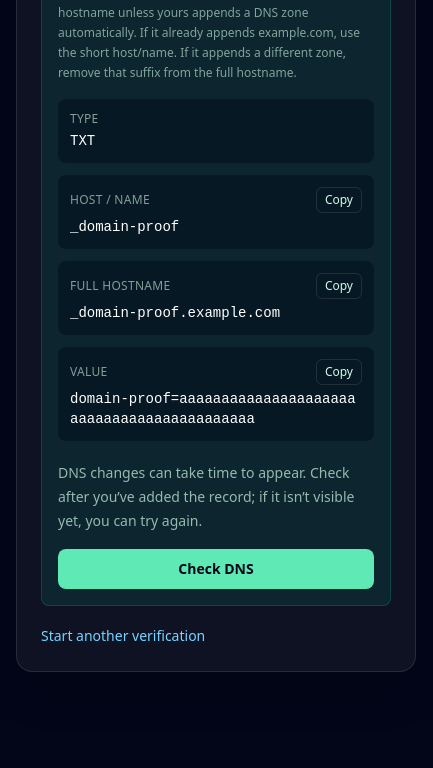
App › explains the lookup_error result and allows retry
The width and height of the screenshot is (433, 768).
(page scrolled)
Click the button "Check DNS": [216, 569] box x1=58 y1=549 x2=374 y2=589
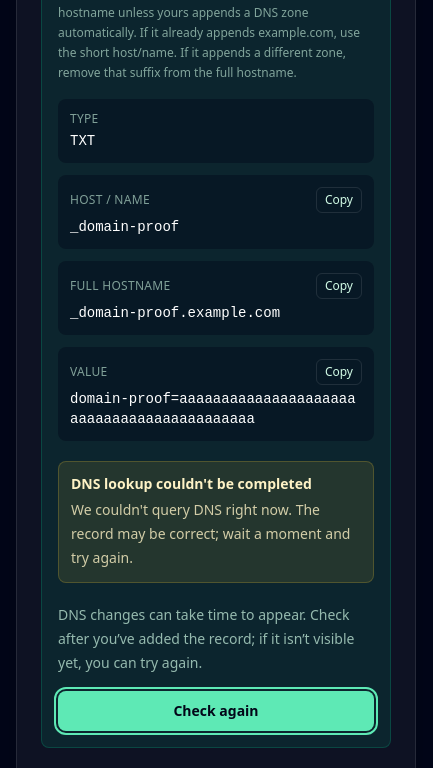
Result: the heading "DNS lookup couldn't be completed" is shown at x1=71 y1=474 x2=312 y2=493
Result: the text "The record may be correct" is shown at x1=71 y1=500 x2=350 y2=567
Result: the button "Check again" is shown at x1=58 y1=691 x2=374 y2=731
